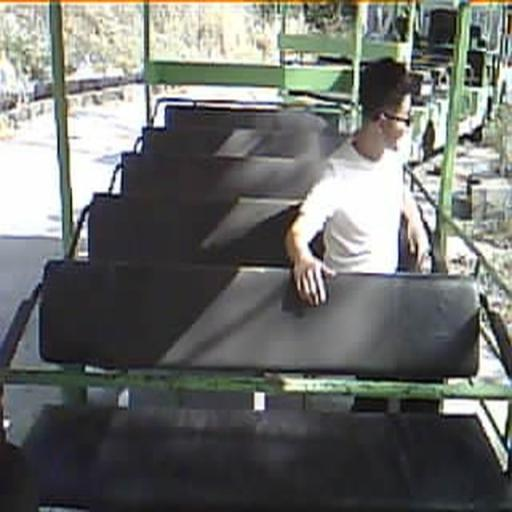persona: (284, 55, 432, 308)
